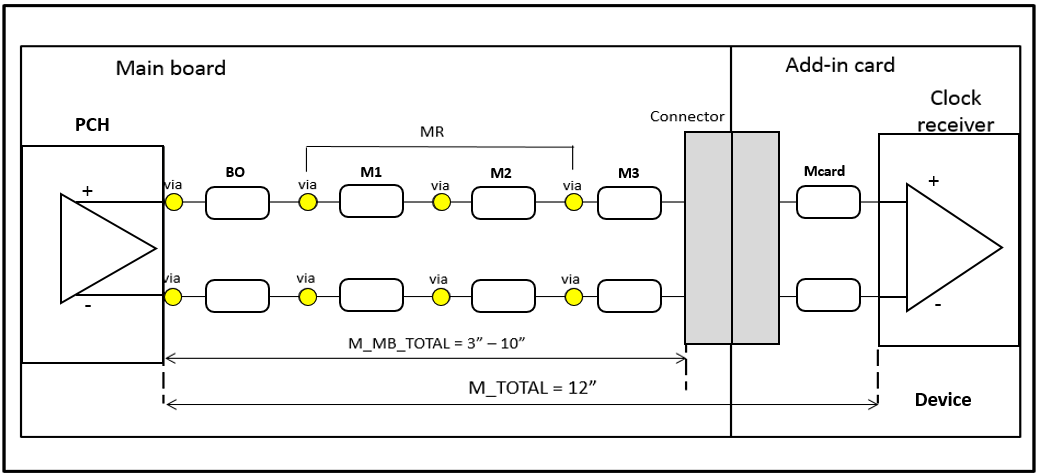circle: (162, 190, 184, 215), (429, 192, 454, 212), (165, 285, 182, 308), (297, 287, 317, 306), (564, 288, 584, 307), (432, 288, 452, 306), (565, 193, 582, 212), (298, 194, 318, 210)
oval: (205, 278, 270, 314), (796, 277, 862, 312), (793, 185, 862, 218), (339, 184, 405, 218), (470, 279, 537, 312), (473, 187, 538, 221), (599, 186, 662, 221), (340, 279, 405, 312), (205, 186, 268, 219), (597, 279, 663, 310)
rectangle: (21, 136, 164, 367), (880, 131, 1019, 350), (682, 128, 736, 348), (730, 129, 779, 346)
triangle: (905, 178, 1005, 316), (57, 189, 158, 308)
